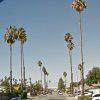Palm tree: (2, 17, 31, 81)
